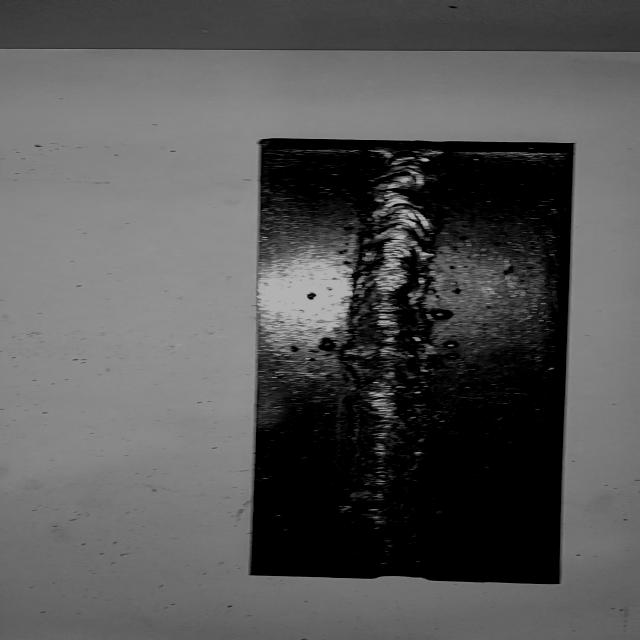Good Weld: (341, 149, 454, 571)
